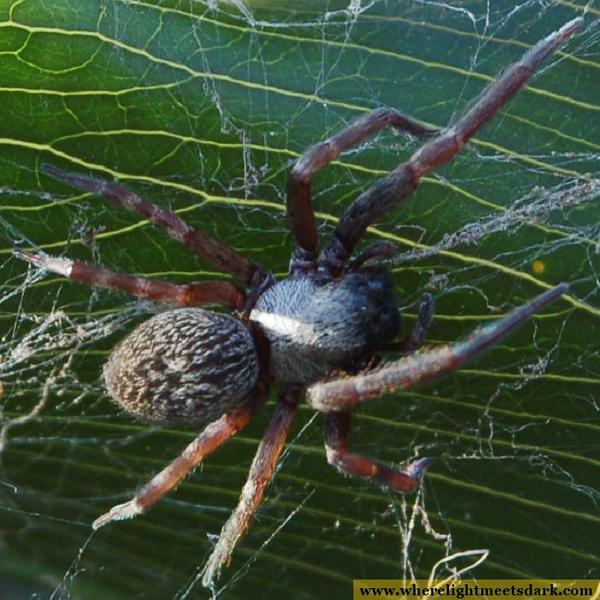White-Tailed Spider: (43, 95, 583, 570)
